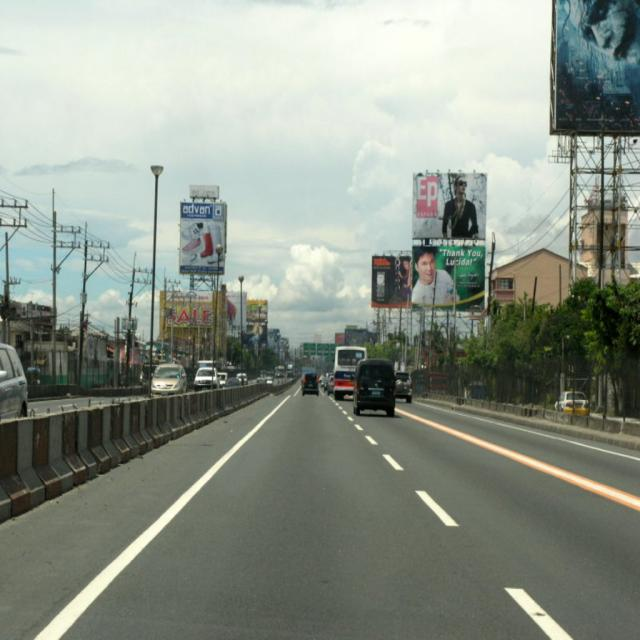car: (355, 356, 396, 416), (301, 371, 317, 393)
